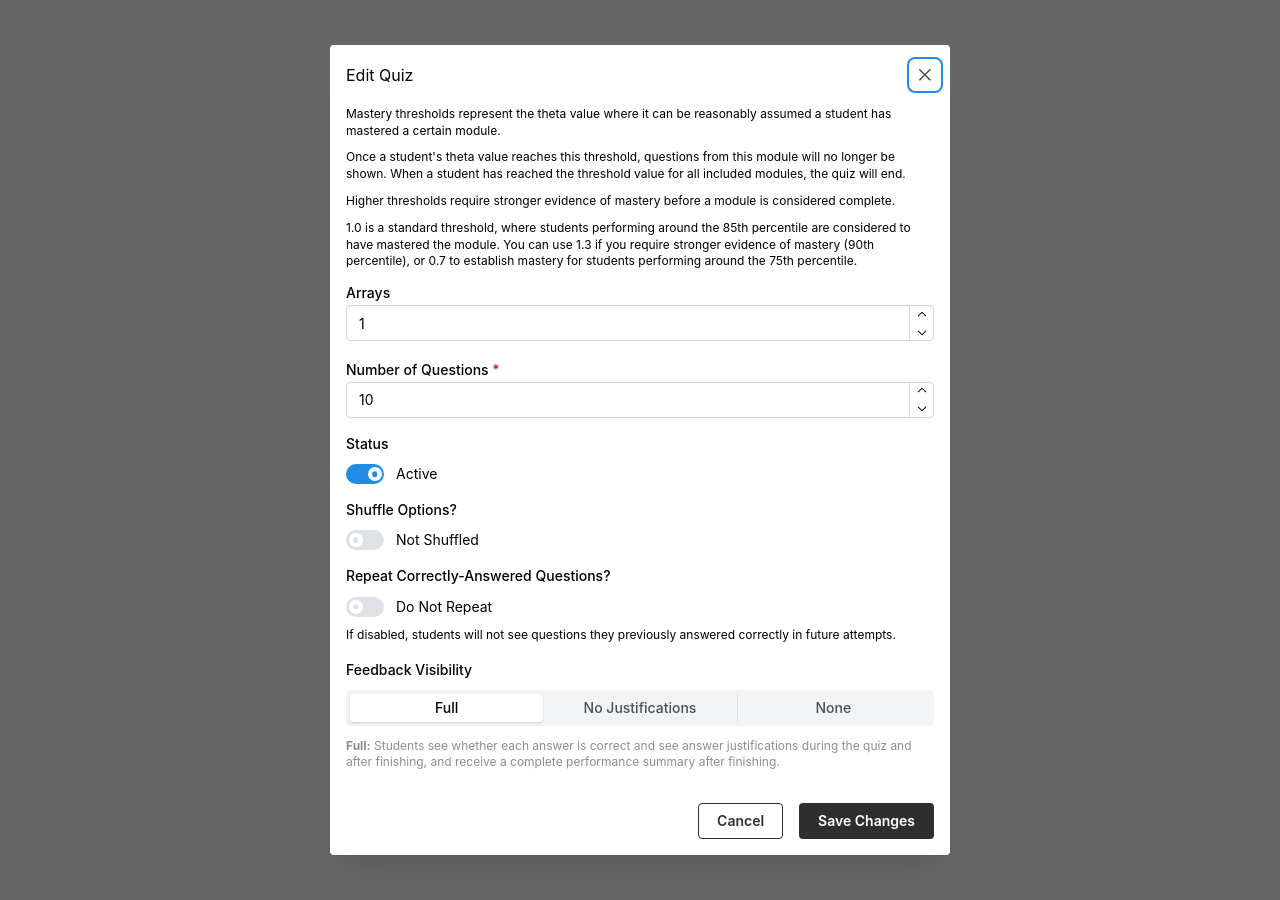
Test: EditQuizModal › shows error alert when API returns 500
(page scrolled)
Click the button "Save Changes".
click(867, 821)  # box [799,803,934,839]
(page scrolled)
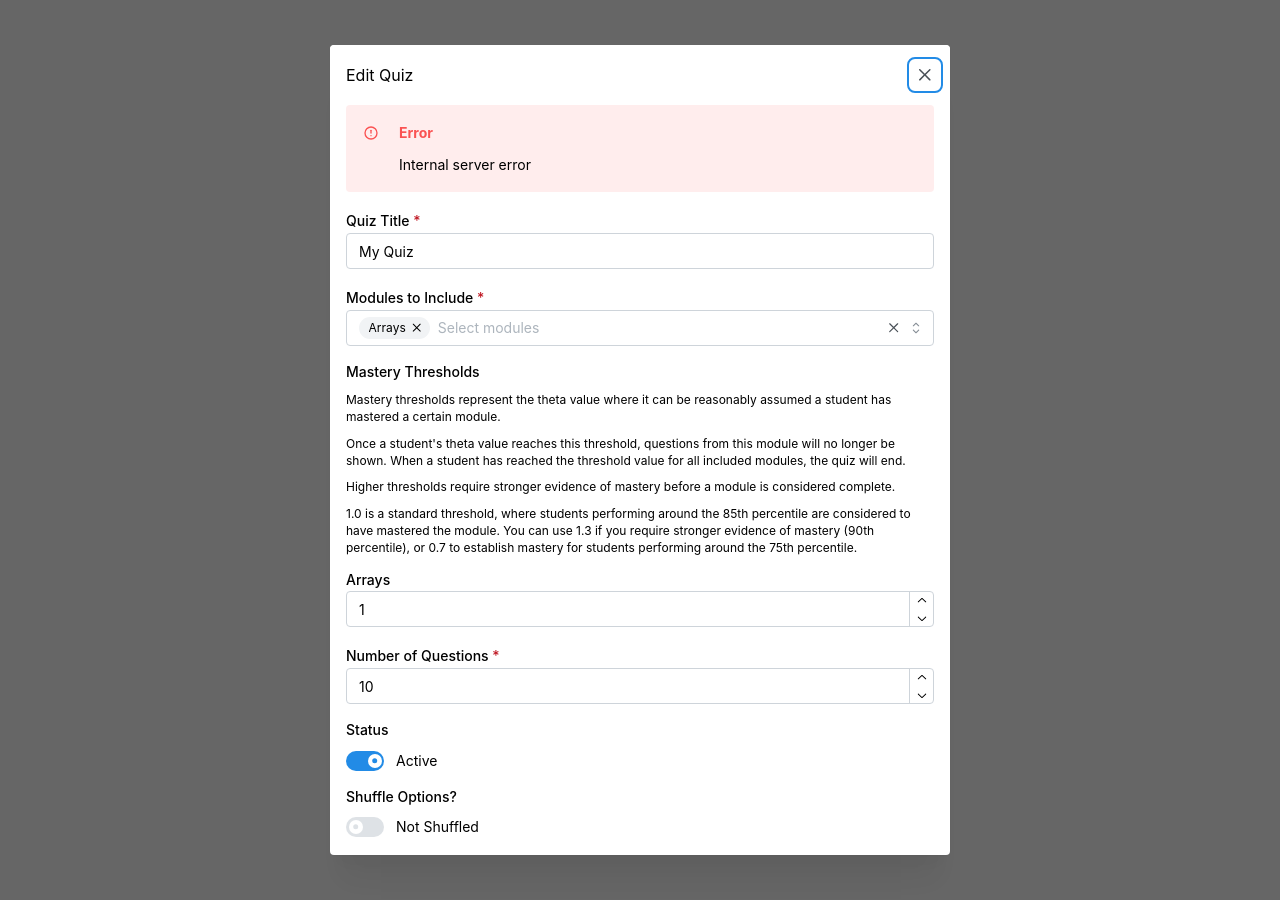
Now the message "Error Internal server error" is shown, box [346,105,934,192]
